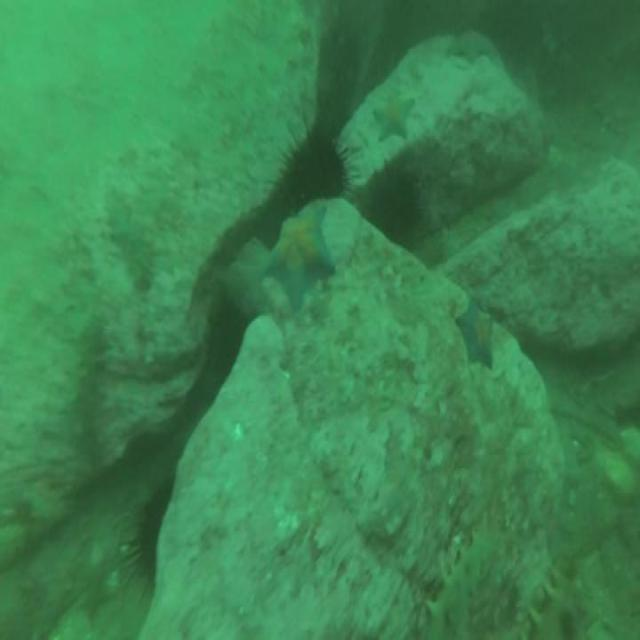echinus: (270, 125, 352, 213), (126, 472, 182, 599), (366, 161, 425, 253), (208, 302, 249, 379)
holothurian: (418, 511, 504, 638), (74, 312, 106, 472), (109, 186, 152, 292), (524, 564, 582, 640)
starfish: (263, 206, 339, 320), (455, 292, 499, 378), (371, 92, 416, 145), (444, 27, 497, 68)
